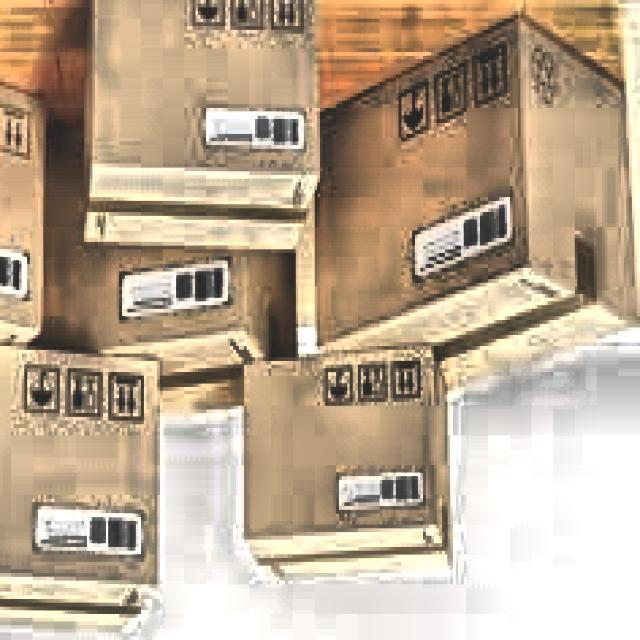cardboard: (315, 15, 640, 402), (84, 0, 323, 253), (242, 346, 456, 584)
